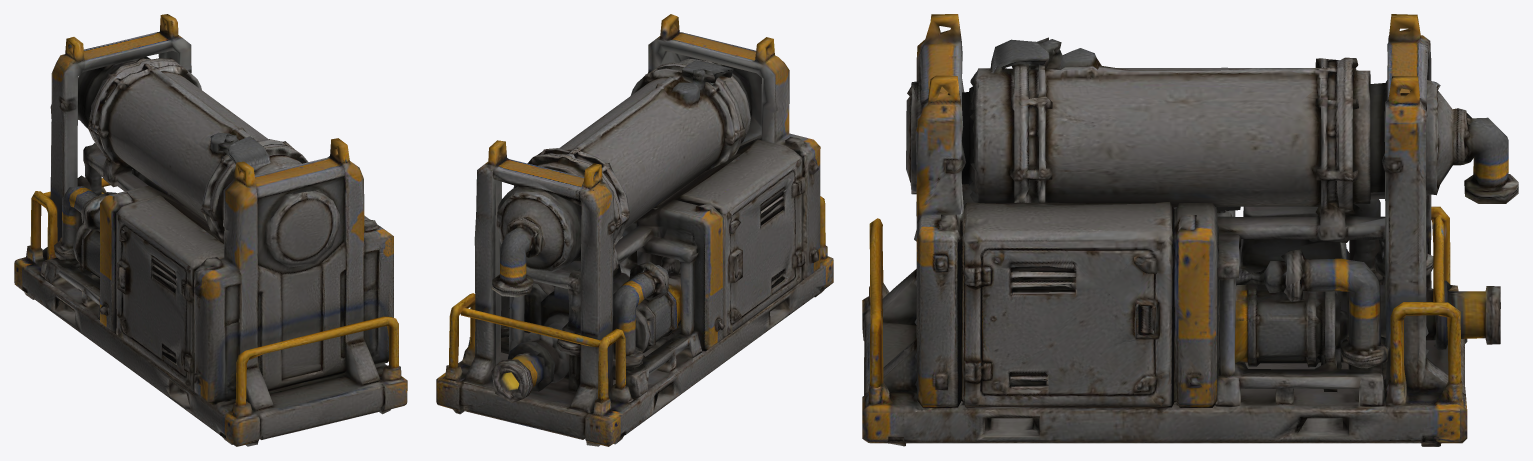
File: PROP-FILTER.glb
The picture shows the model from 3 angles, left to right: view 1: azimuth 30°, elevation 25°; view 2: azimuth 150°, elevation 25°; view 3: azimuth 270°, elevation 25°; orthographic projection. The views are drawn at different scales.
Visible parts, largest first — view 1: tripo_node_a6423fe0-9719-45d4-b285-4ee37ae409b5; view 2: tripo_node_a6423fe0-9719-45d4-b285-4ee37ae409b5; view 3: tripo_node_a6423fe0-9719-45d4-b285-4ee37ae409b5.
Boxes of the visible parts, box(x1,y1,x2,y2) form: tripo_node_a6423fe0-9719-45d4-b285-4ee37ae409b5: box(14, 14, 407, 446); tripo_node_a6423fe0-9719-45d4-b285-4ee37ae409b5: box(436, 14, 833, 446); tripo_node_a6423fe0-9719-45d4-b285-4ee37ae409b5: box(862, 14, 1518, 446).
Size of the model in its own units: 0.4665 by 0.5814 by 1.
1 material, 1 textured.
